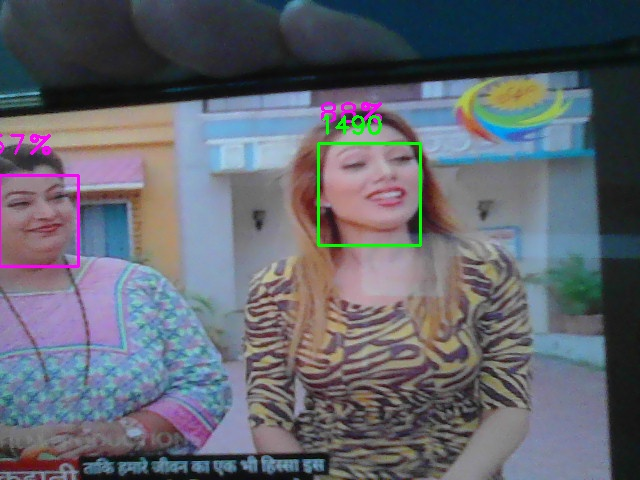fake: (318, 143, 421, 246)
